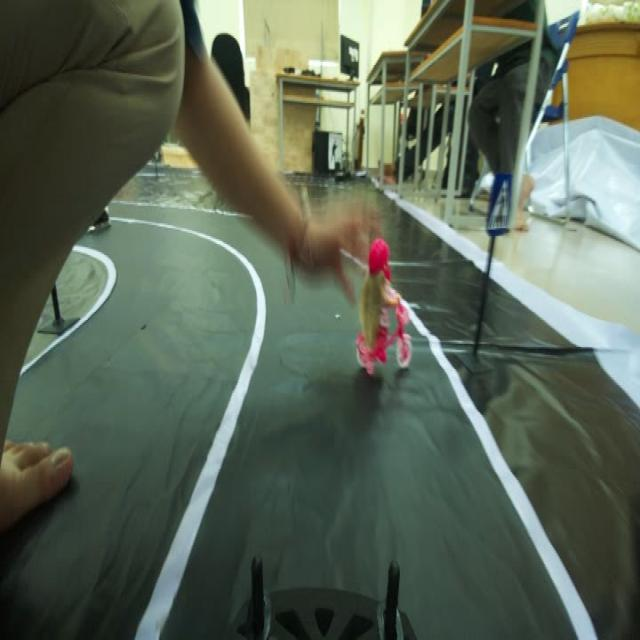crosswalk: (486, 166, 518, 249)
pedestrian: (357, 232, 411, 372)
